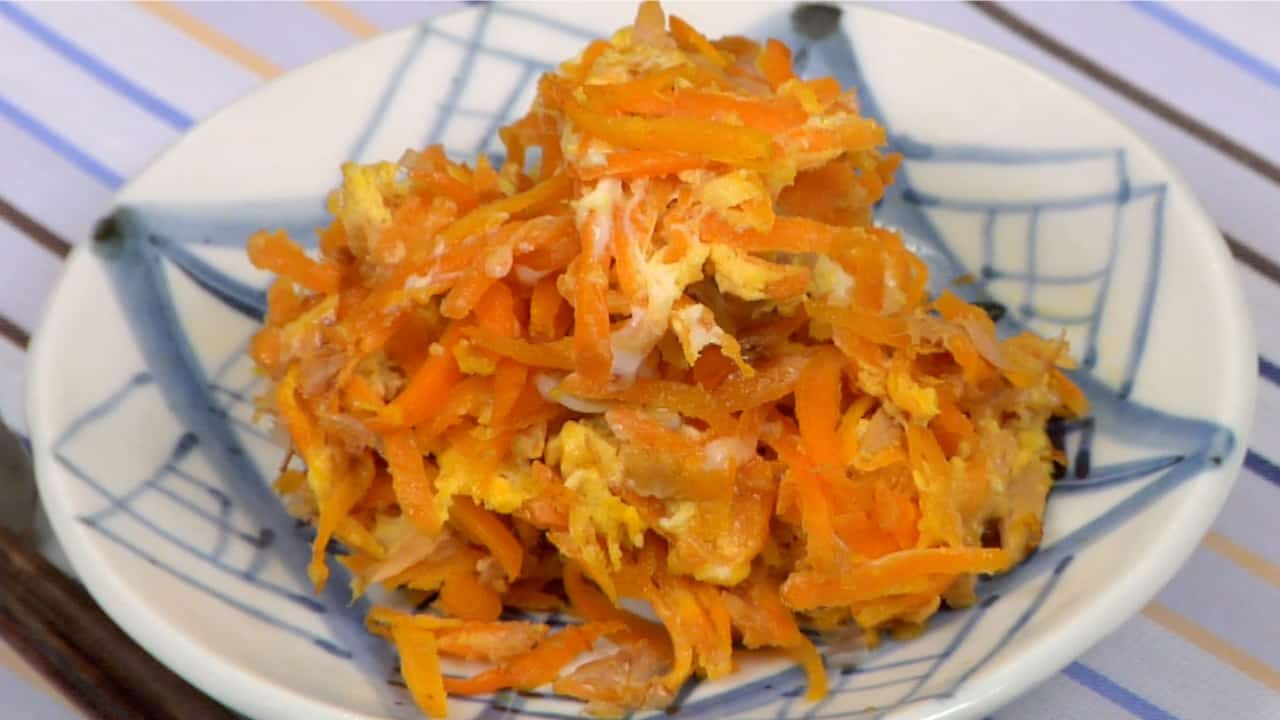carrot_eggs: (239, 9, 1097, 713), (375, 369, 885, 686), (301, 178, 747, 476), (652, 288, 1084, 595), (538, 78, 908, 350)
